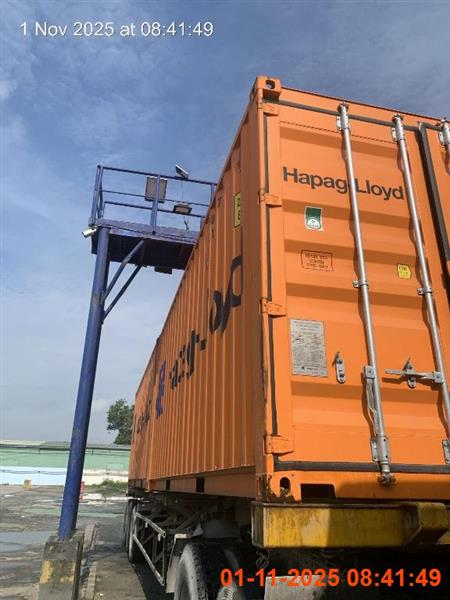broken: (119, 76, 449, 599)
